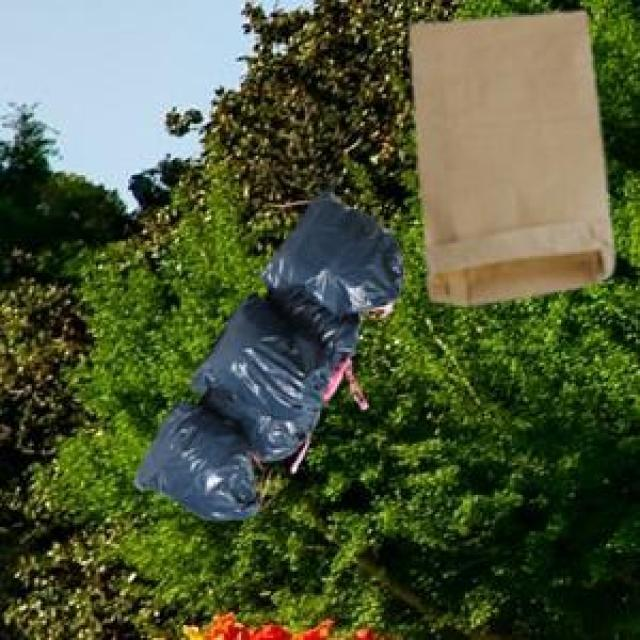miscellaneous trash: (130, 175, 399, 516)
paper: (405, 6, 608, 301)
